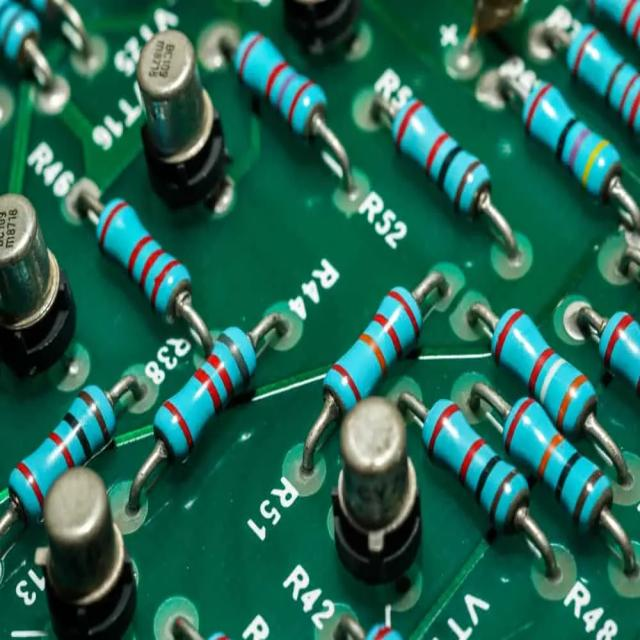resistor: (152, 328, 262, 476), (421, 398, 529, 541), (89, 197, 193, 340), (387, 93, 496, 225), (506, 383, 598, 527), (496, 303, 590, 435), (237, 17, 329, 149), (326, 286, 419, 407), (15, 392, 108, 508)
